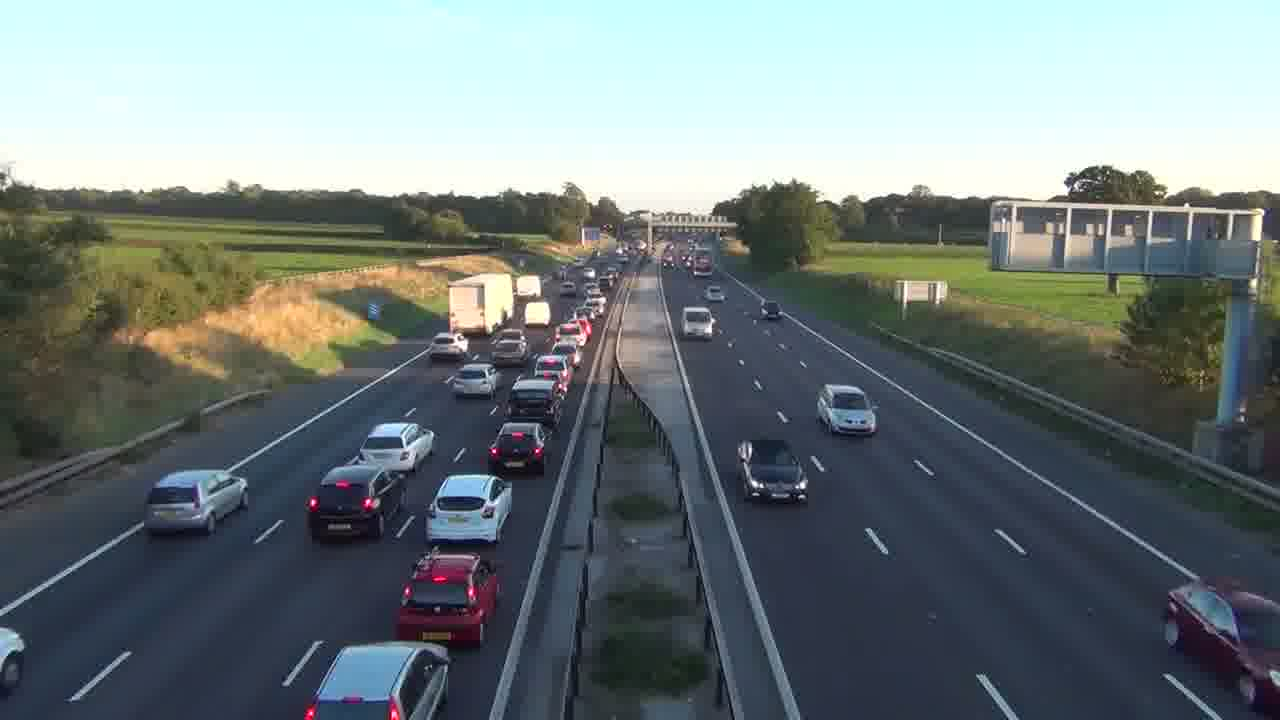car: (1163, 578, 1280, 715), (303, 641, 451, 719), (393, 552, 500, 647), (305, 462, 406, 543), (143, 468, 249, 535), (424, 473, 514, 545), (736, 438, 809, 504), (816, 383, 879, 436), (488, 421, 547, 475), (0, 626, 27, 696), (446, 365, 497, 398), (760, 299, 782, 320)
